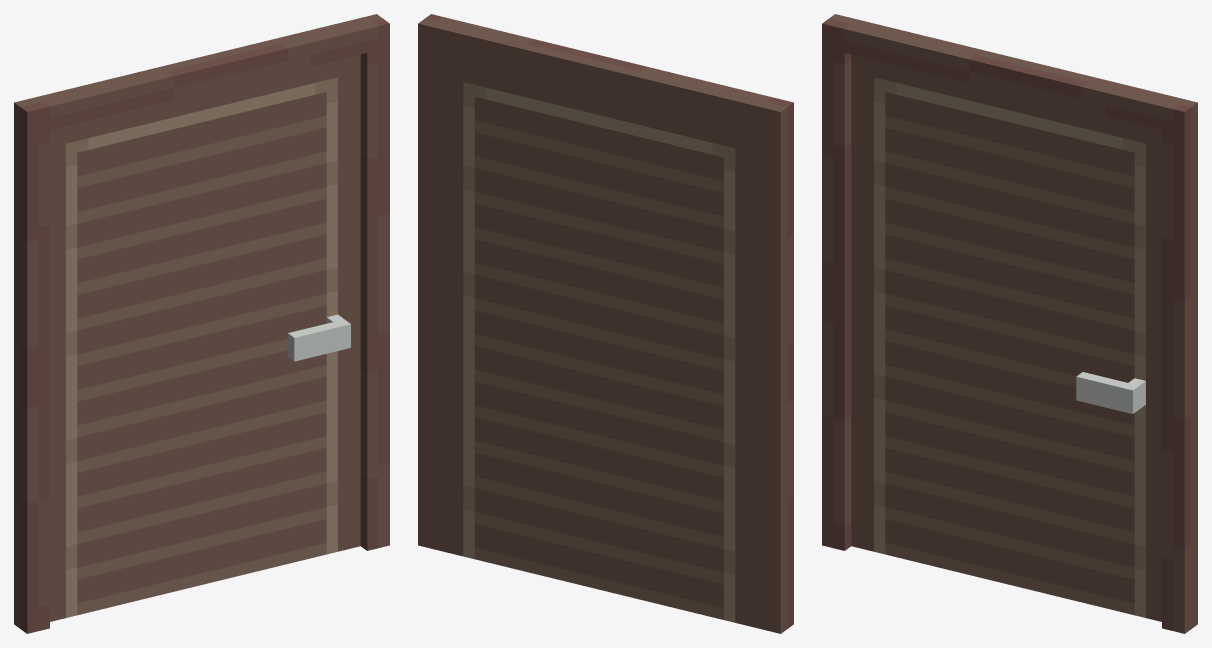
File: House Interior Rooms - Free Sample-15.obj
3 renders of one model, left to right at view 1: azimuth 30°, elevation 25°; view 2: azimuth 150°, elevation 25°; view 3: azimuth 330°, elevation 25°, orthographic.
Size of the model in its own units: 0.64 by 0.88 by 0.06.
1 material, 1 textured.
